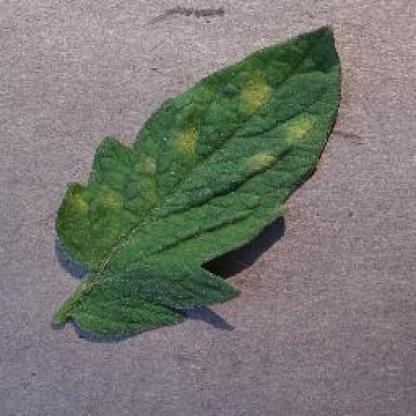Tomato_Leaf_Mold: (58, 22, 341, 305)
